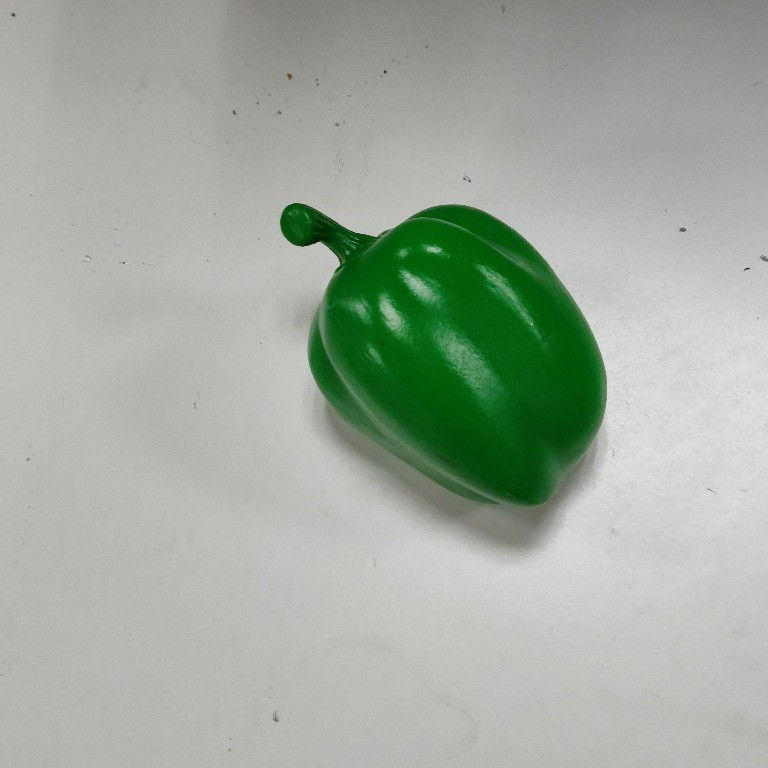fruit_pepper: (276, 197, 611, 514)
